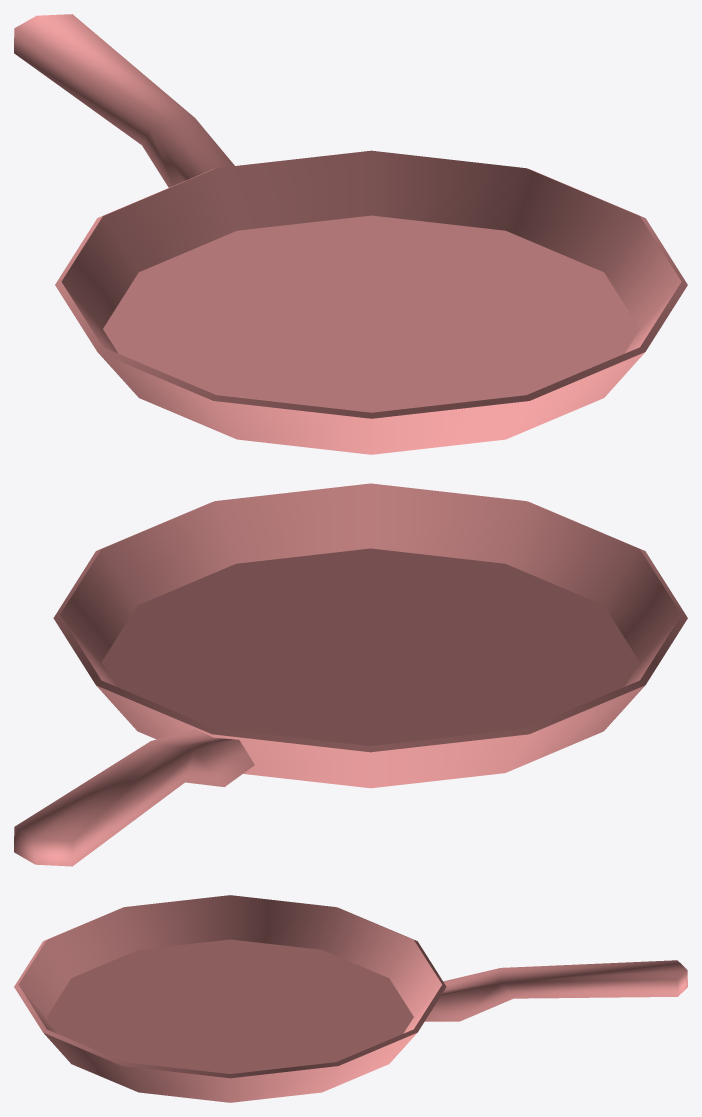
Rendered from TFYK_pan.FBX.
The picture shows the model from 3 angles, top to bottom: view 1: azimuth 30°, elevation 25°; view 2: azimuth 150°, elevation 25°; view 3: azimuth 270°, elevation 25°; orthographic projection. The views are drawn at different scales.
Parts seen in each view (by area): view 1: TFYK_pan; view 2: TFYK_pan; view 3: TFYK_pan.
Part boxes in pixels (x1,y1,x2,y2): TFYK_pan: [14, 14, 687, 454]; TFYK_pan: [14, 483, 687, 866]; TFYK_pan: [14, 895, 687, 1102].
Size of the model in its own units: 0.2398 by 0.0337 by 0.3736.
